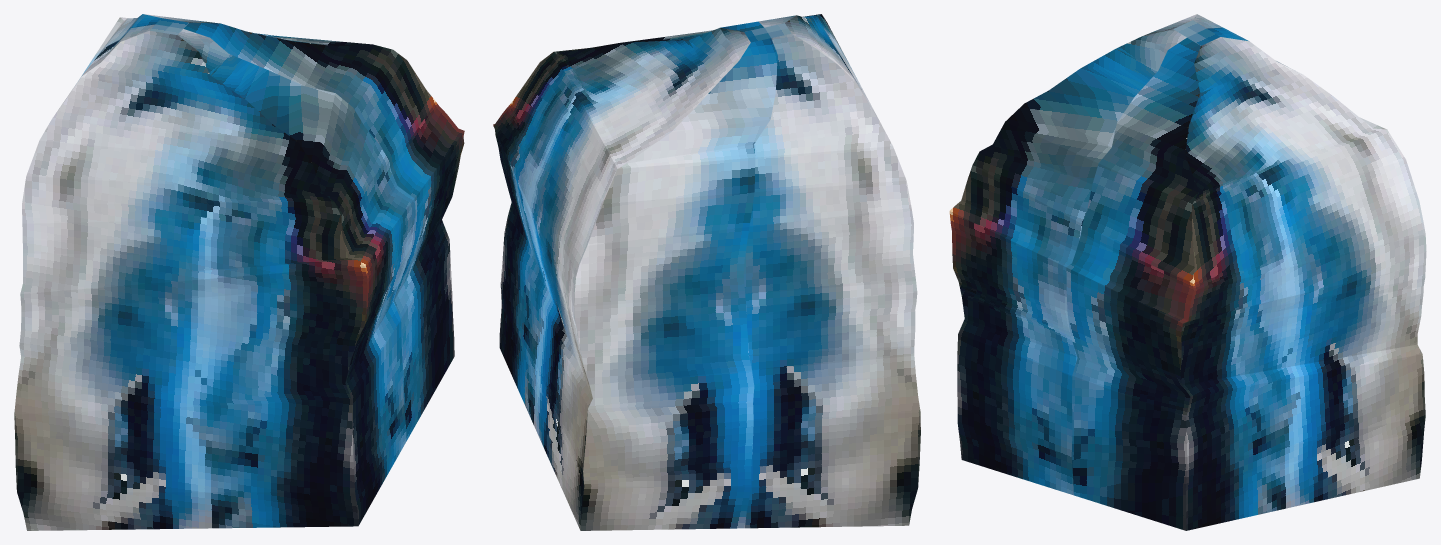
3 renders of one model, left to right at view 1: azimuth 30°, elevation 25°; view 2: azimuth 150°, elevation 25°; view 3: azimuth 270°, elevation 25°, orthographic. The views are drawn at different scales.
Visible parts, largest first — view 1: SPLICE_1; view 2: SPLICE_1; view 3: SPLICE_1.
Boxes of the visible parts, x1=… form: SPLICE_1: x1=14, y1=14, x2=464, y2=530; SPLICE_1: x1=493, y1=14, x2=920, y2=530; SPLICE_1: x1=949, y1=14, x2=1426, y2=530.
Bounding box in the file's own units: 1.07 × 1.09 × 1.06.
1 material, 1 textured.
